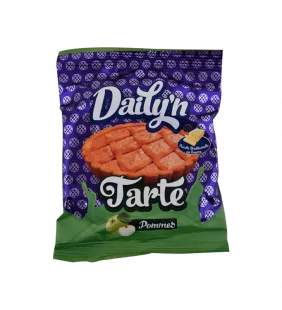Promotion: (45, 37, 236, 268)
